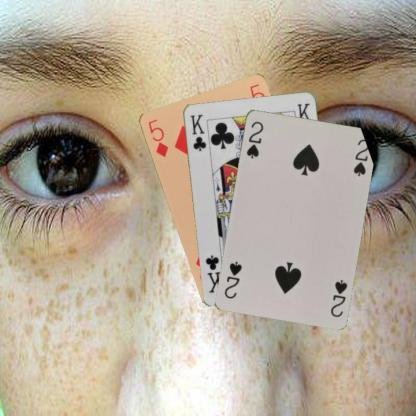2s: (243, 118, 265, 160), (328, 276, 348, 318)
5d: (145, 116, 169, 158)
Kc: (187, 112, 208, 152)
